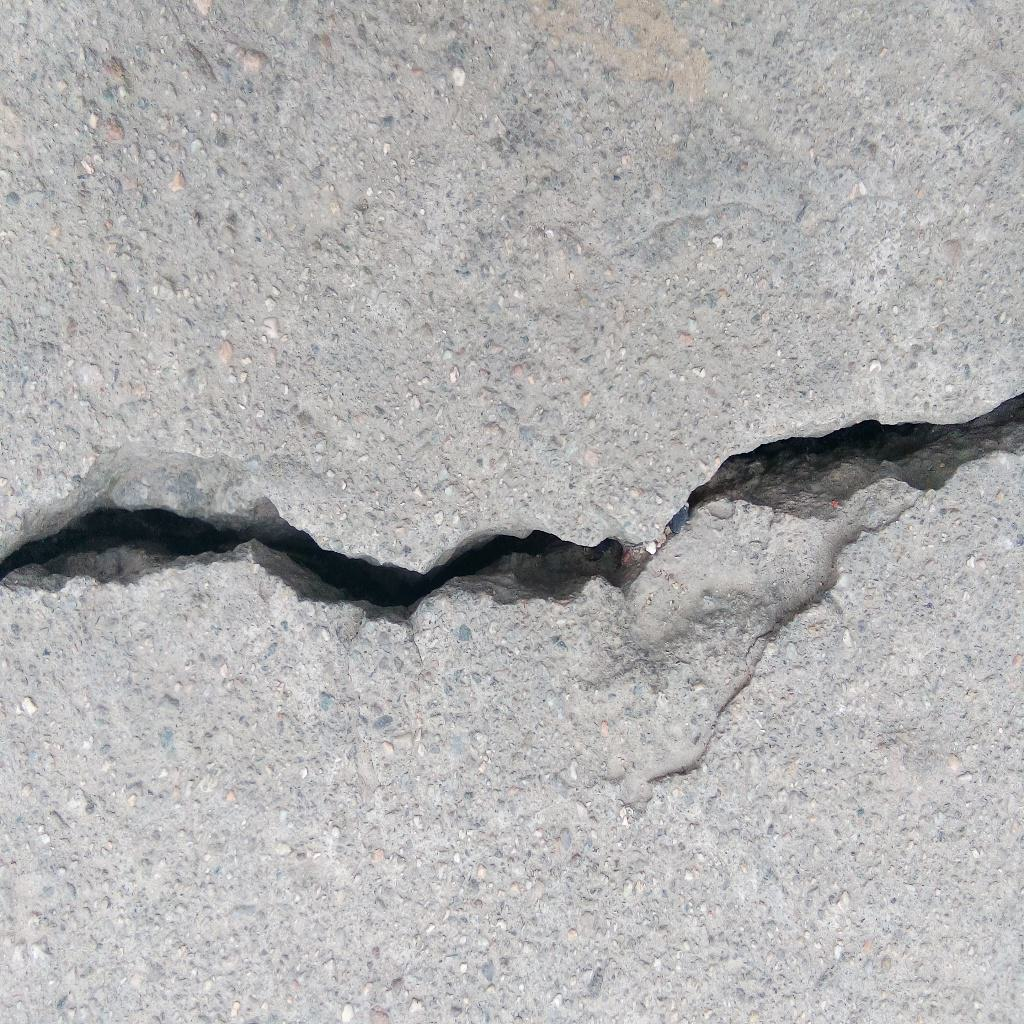Crack: (1, 392, 1024, 626), (648, 498, 924, 786)
